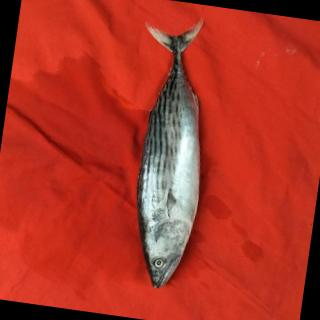Ikan: (102, 13, 237, 304)
